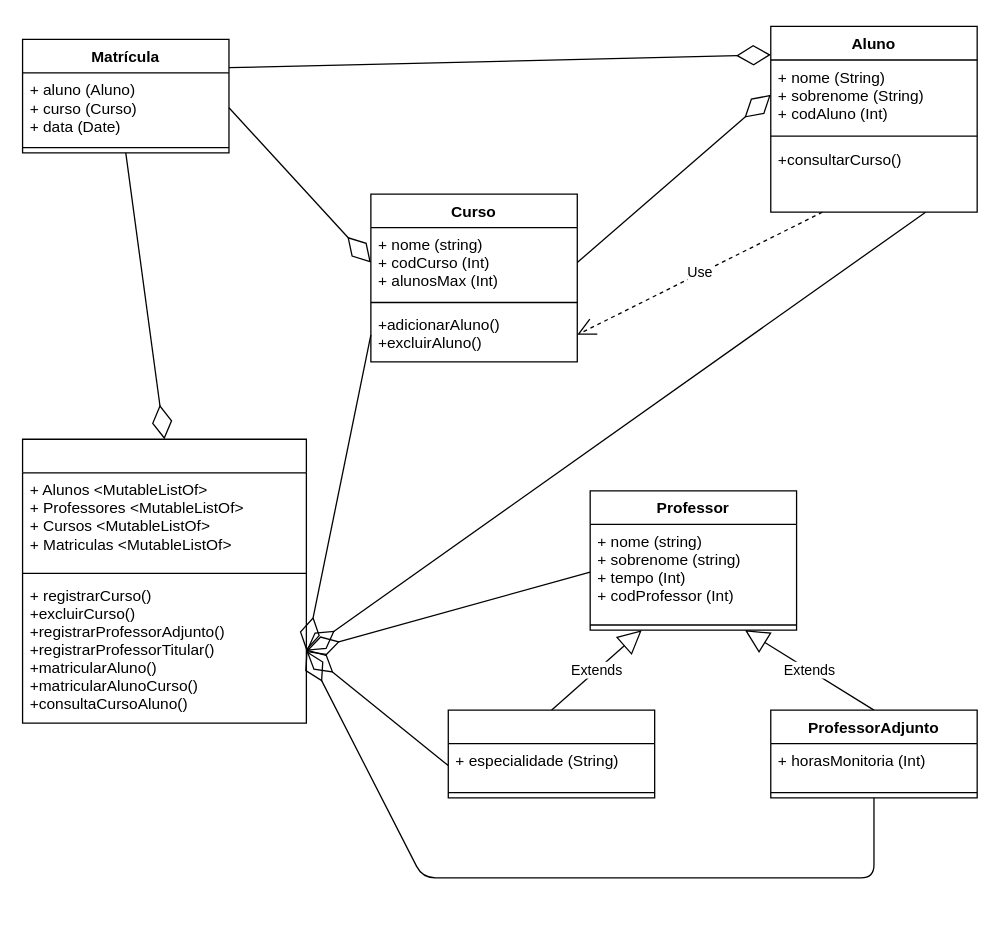
The diagram is 1000 pixels wide and 934 high, and some of its shapes have lost their labels. The shapes that lost their labels are listed below. From the top down, each one's box as (x1, y1, x2, y2) in pixels, then its label:
(21, 438, 306, 723): DigitalHouseManager
(447, 709, 655, 798): ProfessorTitular
